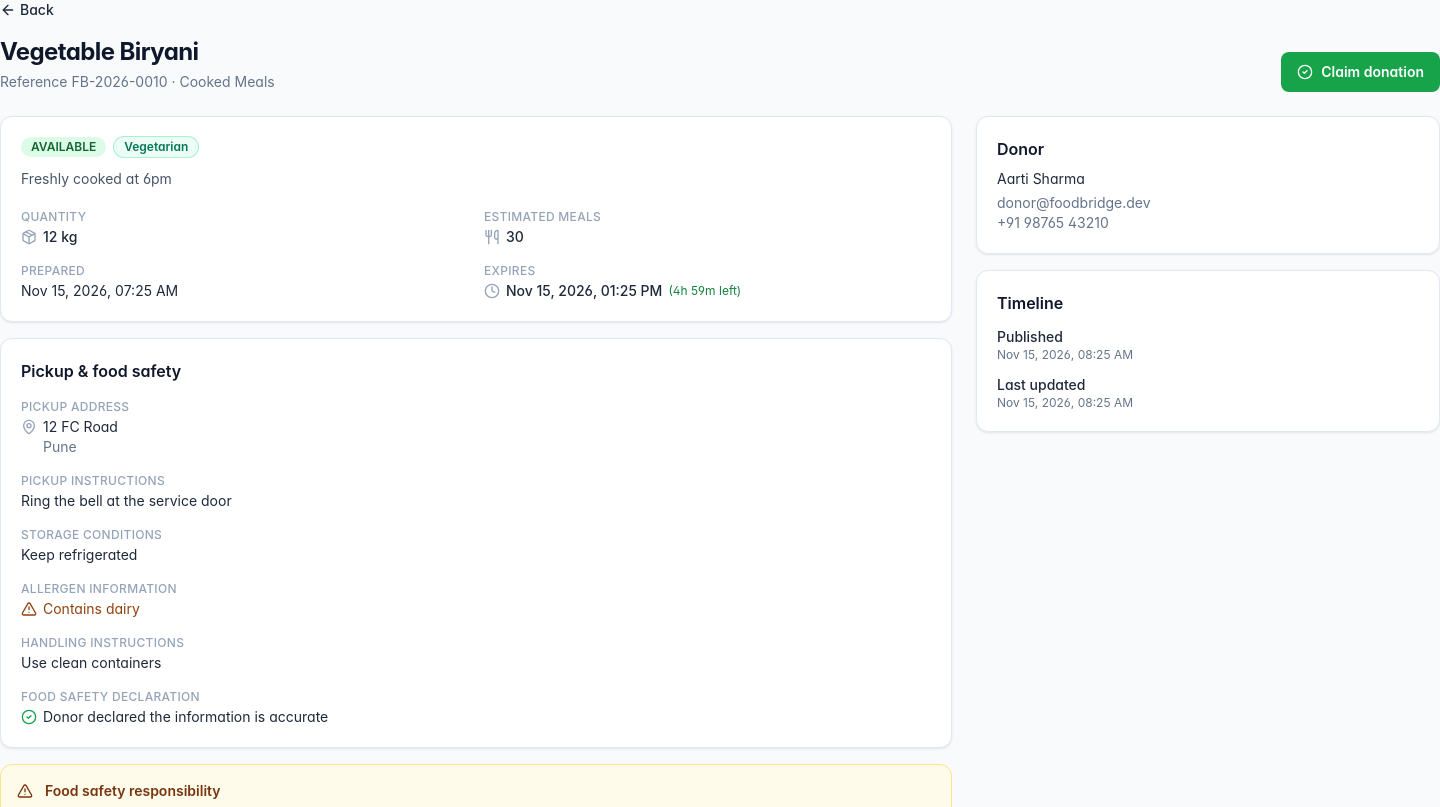
Test: DonationDetailsPage — NGO claiming › requires the suitability confirmation before the claim is sent
Later steps or results of the test are not shown.
Click the button "Claim donation" at [1361, 72], box x1=1281 y1=52 x2=1439 y2=92
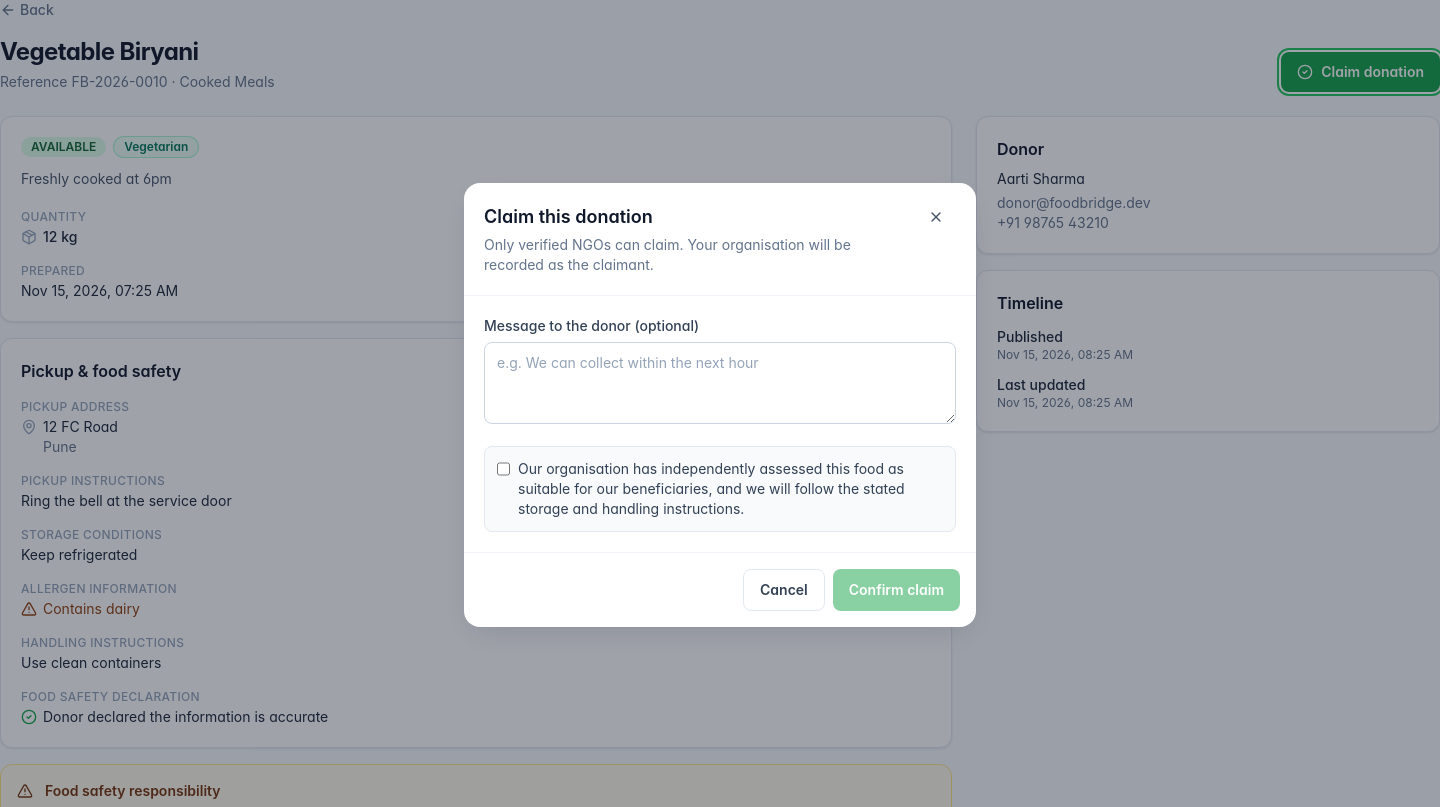
Result: the button "Confirm claim" is disabled at x1=833 y1=569 x2=960 y2=611
Click the checkbox at [504, 469], box x1=497 y1=461 x2=510 y2=477
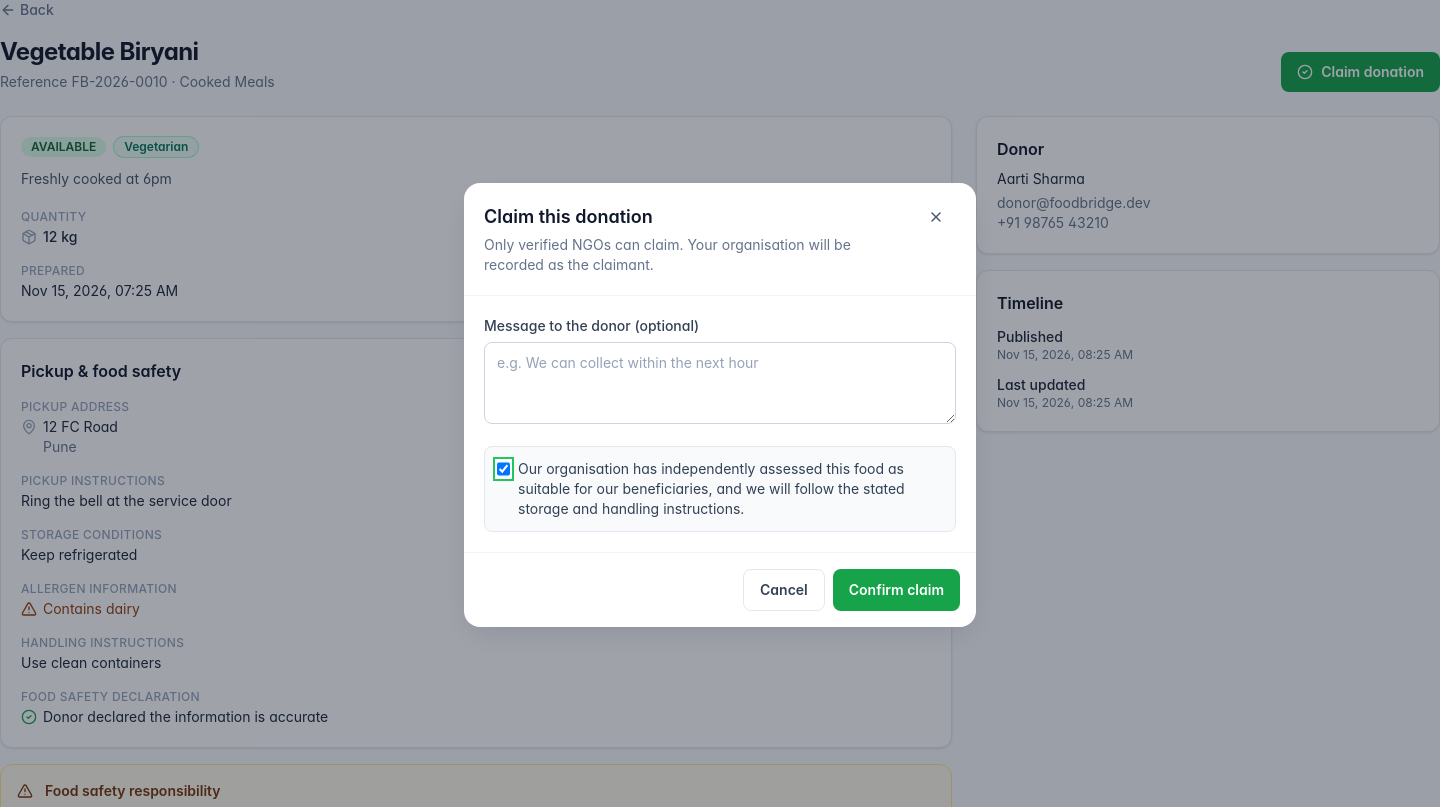
Result: the button "Confirm claim" is enabled at x1=833 y1=569 x2=960 y2=611
